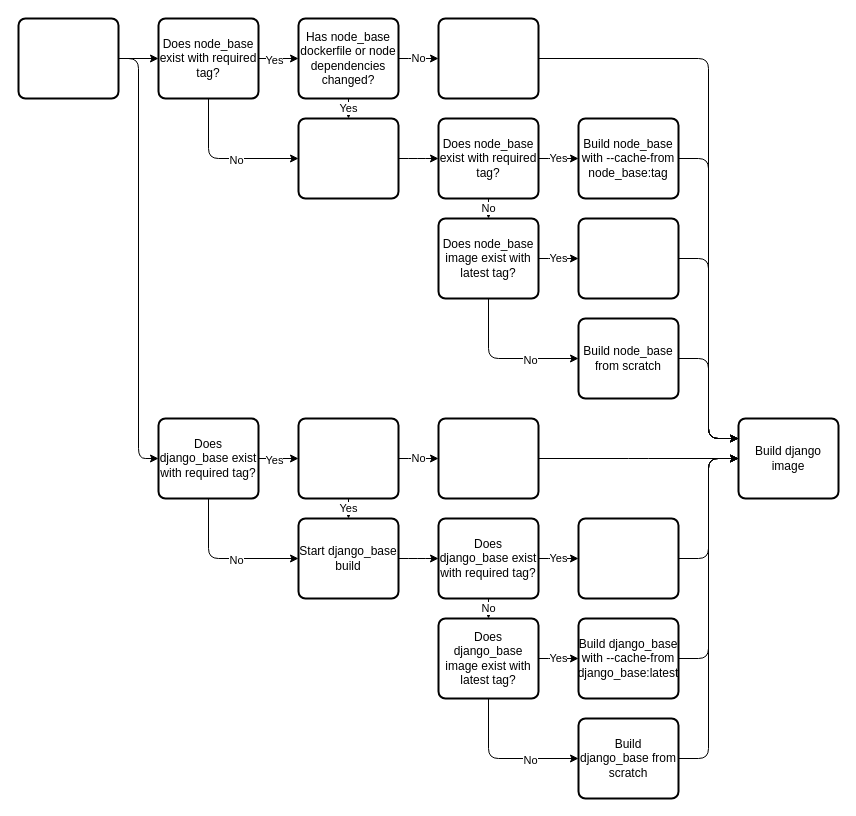
The diagram is 856 pixels wide and 816 high, and some of its shapes have lost their labels. Each missing label, with the centre of its shape:
"Build django_base with --cache-from node_base:tag" goes at (628,558).
"Build node_base with --cache-from node_base:latest" goes at (628,258).
"Has django_base dockerfile or node dependencies changed?" goes at (348,458).
"Start node base build" goes at (348,158).
"Start process" goes at (68,58).
"Use existing django_base:tag image" goes at (488,458).
"Use existing node_base:tag image" goes at (488,58).
